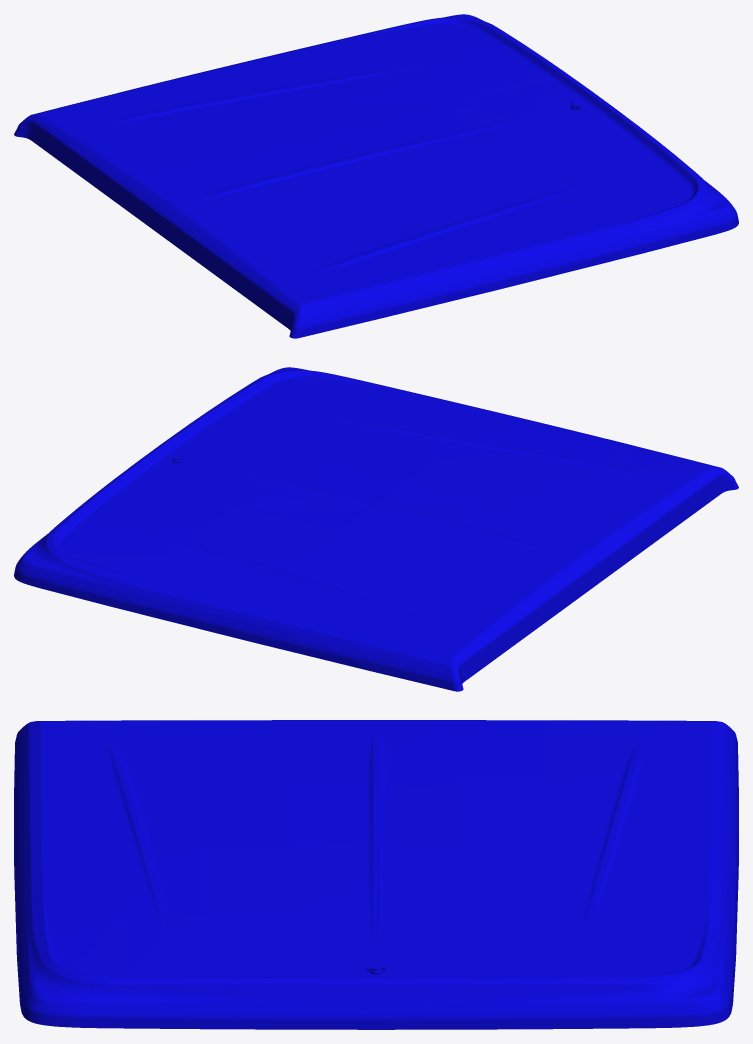
The model's file is lid.glb.
3 renders of one model, top to bottom at view 1: azimuth 30°, elevation 25°; view 2: azimuth 150°, elevation 25°; view 3: azimuth 270°, elevation 25°, orthographic. The views are drawn at different scales.
Visible parts, largest first — view 1: 5026 OS; view 2: 5026 OS; view 3: 5026 OS.
Boxes of the visible parts, x1,y1,x2,y2 form: 5026 OS: (14, 14, 738, 338); 5026 OS: (14, 367, 738, 691); 5026 OS: (14, 720, 738, 1029).
Size of the model in its own units: 11.17 by 0.703 by 11.77.
